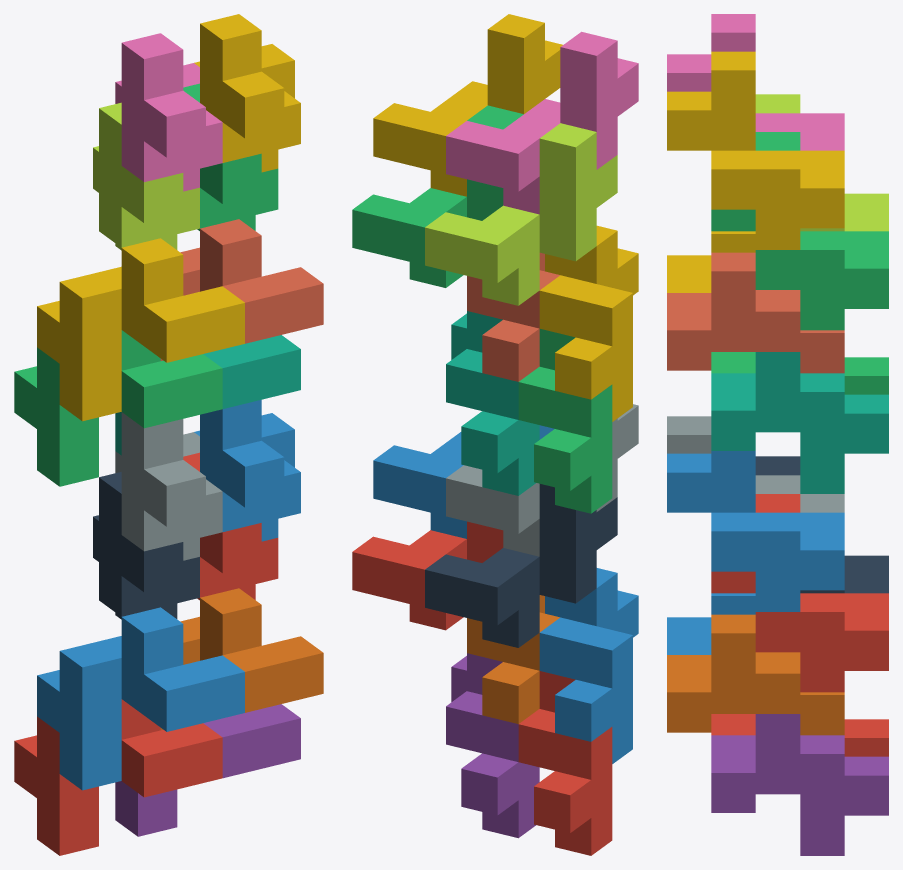
File: tiling.obj
3 views of the same model, side by side, from view 1: azimuth 30°, elevation 25°; view 2: azimuth 150°, elevation 25°; view 3: azimuth 270°, elevation 25° (orthographic). The views are drawn at different scales.
Visible parts, largest first — view 1: copy_1_domain_2, copy_1_domain_4, copy_1_domain_3, copy_1_domain_1, copy_2_domain_4, copy_2_domain_8, copy_2_domain_2, copy_2_domain_6, copy_1_domain_6, copy_1_domain_8, copy_2_domain_1, copy_2_domain_3 (+4 smaller); view 2: copy_2_domain_3, copy_2_domain_1, copy_2_domain_4, copy_1_domain_4, copy_1_domain_2, copy_2_domain_8, copy_1_domain_1, copy_1_domain_3, copy_1_domain_5, copy_1_domain_7, copy_2_domain_7, copy_2_domain_5 (+4 smaller); view 3: copy_2_domain_8, copy_2_domain_6, copy_1_domain_5, copy_1_domain_7, copy_1_domain_6, copy_1_domain_8, copy_2_domain_5, copy_2_domain_7, copy_2_domain_4, copy_2_domain_2, copy_2_domain_1, copy_2_domain_3 (+4 smaller).
Boxes of the visible parts, x1=… form: copy_1_domain_2: x1=37, y1=607, x2=244, y2=790; copy_1_domain_4: x1=37, y1=238, x2=244, y2=421; copy_1_domain_3: x1=14, y1=330, x2=222, y2=486; copy_1_domain_1: x1=14, y1=699, x2=222, y2=855; copy_2_domain_4: x1=115, y1=33, x2=222, y2=191; copy_2_domain_8: x1=194, y1=14, x2=300, y2=172; copy_2_domain_2: x1=115, y1=412, x2=222, y2=560; copy_2_domain_6: x1=194, y1=400, x2=300, y2=541; copy_1_domain_6: x1=160, y1=588, x2=323, y2=730; copy_1_domain_8: x1=160, y1=219, x2=323, y2=360; copy_2_domain_1: x1=93, y1=472, x2=199, y2=619; copy_2_domain_3: x1=93, y1=102, x2=199, y2=250; copy_2_domain_3: x1=425, y1=123, x2=617, y2=305; copy_2_domain_1: x1=425, y1=484, x2=617, y2=647; copy_2_domain_4: x1=446, y1=31, x2=638, y2=214; copy_1_domain_4: x1=539, y1=225, x2=638, y2=421; copy_1_domain_2: x1=539, y1=568, x2=638, y2=763; copy_2_domain_8: x1=373, y1=14, x2=562, y2=196; copy_1_domain_1: x1=518, y1=671, x2=612, y2=855; copy_1_domain_3: x1=518, y1=329, x2=612, y2=513; copy_1_domain_5: x1=446, y1=653, x2=539, y2=838; copy_1_domain_7: x1=446, y1=311, x2=539, y2=495; copy_2_domain_7: x1=352, y1=105, x2=523, y2=287; copy_2_domain_5: x1=352, y1=521, x2=503, y2=630; copy_2_domain_8: x1=667, y1=51, x2=844, y2=249; copy_2_domain_6: x1=667, y1=451, x2=844, y2=611; copy_1_domain_5: x1=711, y1=714, x2=888, y2=855; copy_1_domain_7: x1=711, y1=352, x2=888, y2=493; copy_1_domain_6: x1=667, y1=614, x2=844, y2=735; copy_1_domain_8: x1=667, y1=252, x2=844, y2=373; copy_2_domain_5: x1=711, y1=494, x2=888, y2=692; copy_2_domain_7: x1=711, y1=132, x2=888, y2=330; copy_2_domain_4: x1=667, y1=14, x2=844, y2=150; copy_2_domain_2: x1=667, y1=416, x2=844, y2=512; copy_2_domain_1: x1=755, y1=456, x2=888, y2=593; copy_2_domain_3: x1=755, y1=94, x2=888, y2=231.
Bounding box in the file's own units: 6 × 20 × 5.
